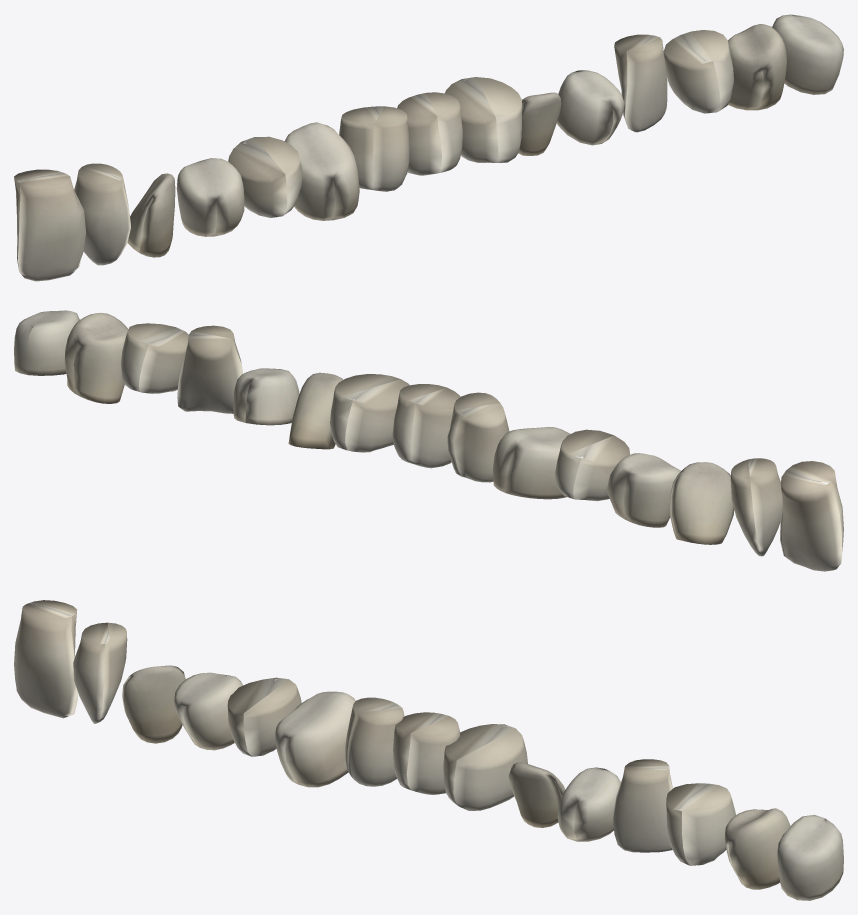
Rendered from tooth.glb.
3 views of the same model, one above another, from view 1: azimuth 30°, elevation 25°; view 2: azimuth 150°, elevation 25°; view 3: azimuth 330°, elevation 25° (orthographic).
Visible parts, largest first — view 1: tooth_1, tooth_6, tooth_9, tooth_7, tooth_13, tooth_5, tooth_4, tooth_2, tooth_8, tooth_14, tooth_12, tooth_15 (+3 smaller); view 2: tooth_1, tooth_9, tooth_14, tooth_12, tooth_3, tooth_8, tooth_6, tooth_7, tooth_4, tooth_13, tooth_5, tooth_2 (+3 smaller); view 3: tooth_1, tooth_6, tooth_9, tooth_12, tooth_15, tooth_13, tooth_8, tooth_7, tooth_5, tooth_2, tooth_14, tooth_3 (+3 smaller).
Part boxes in pixels (left/top/right/bottom): tooth_1: left=14, top=169, right=86, bottom=281; tooth_6: left=284, top=122, right=359, bottom=220; tooth_9: left=445, top=77, right=522, bottom=162; tooth_7: left=339, top=106, right=409, bottom=191; tooth_13: left=663, top=30, right=733, bottom=113; tooth_5: left=228, top=136, right=302, bottom=217; tooth_4: left=176, top=158, right=244, bottom=236; tooth_2: left=74, top=163, right=130, bottom=265; tooth_8: left=397, top=92, right=462, bottom=175; tooth_14: left=728, top=24, right=786, bottom=110; tooth_12: left=614, top=34, right=667, bottom=132; tooth_15: left=772, top=14, right=843, bottom=94; tooth_1: left=780, top=461, right=843, bottom=571; tooth_9: left=330, top=374, right=409, bottom=452; tooth_14: left=64, top=312, right=128, bottom=403; tooth_12: left=177, top=325, right=243, bottom=413; tooth_3: left=669, top=462, right=734, bottom=544; tooth_8: left=392, top=384, right=460, bottom=468; tooth_6: left=493, top=427, right=570, bottom=499; tooth_7: left=447, top=392, right=509, bottom=482; tooth_4: left=606, top=453, right=680, bottom=527; tooth_13: left=120, top=323, right=188, bottom=393; tooth_5: left=555, top=429, right=629, bottom=501; tooth_2: left=730, top=458, right=782, bottom=556; tooth_1: left=14, top=600, right=77, bottom=718; tooth_6: left=275, top=691, right=355, bottom=787; tooth_9: left=443, top=724, right=527, bottom=810; tooth_12: left=613, top=759, right=672, bottom=852; tooth_15: left=777, top=814, right=843, bottom=900; tooth_13: left=666, top=783, right=735, bottom=865; tooth_8: left=393, top=712, right=460, bottom=794; tooth_7: left=345, top=697, right=404, bottom=786; tooth_5: left=227, top=677, right=301, bottom=756; tooth_2: left=73, top=622, right=127, bottom=723; tooth_14: left=724, top=808, right=790, bottom=889; tooth_3: left=122, top=665, right=185, bottom=743.
Size of the model in its own units: 15.02 by 1.79 by 1.65.
Materials: 1 (1 with a texture image).
